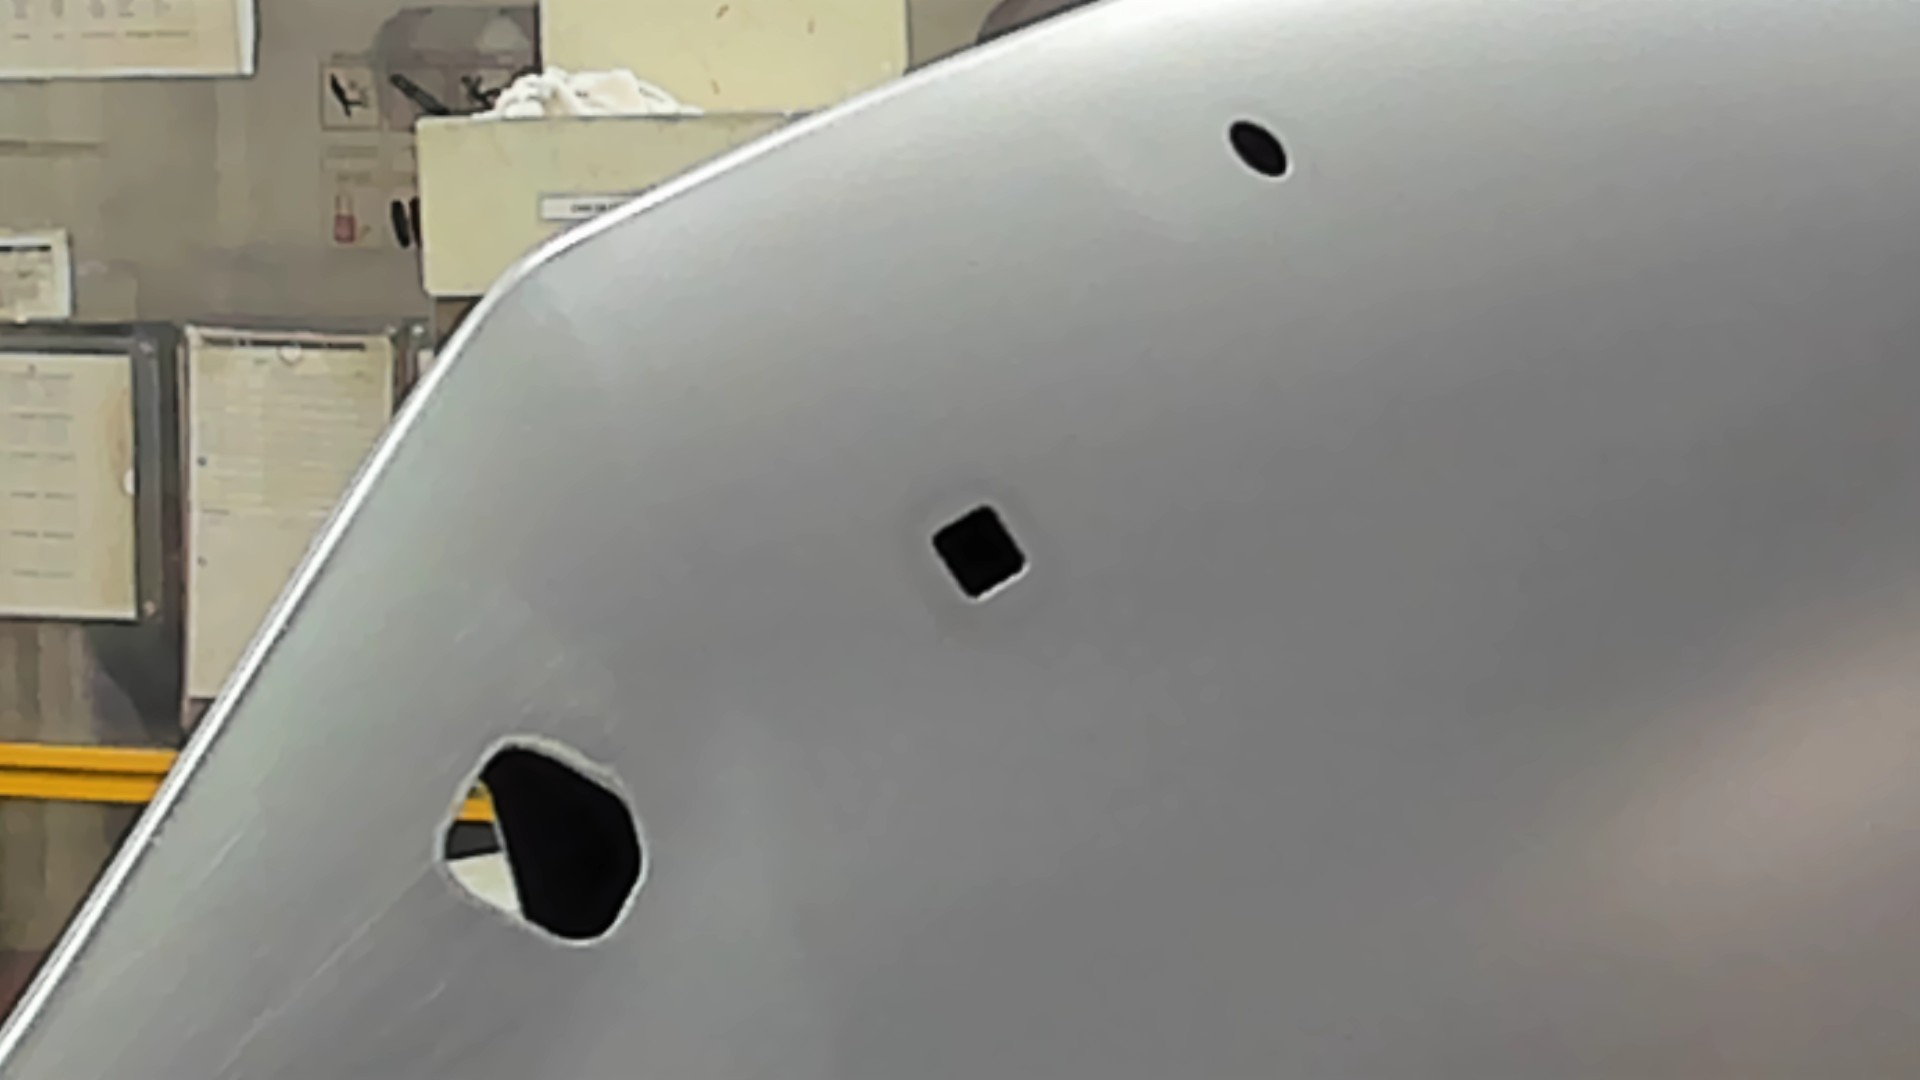chico: (1222, 115, 1294, 182)
grande: (431, 731, 655, 951)
mediano: (928, 501, 1033, 604)
